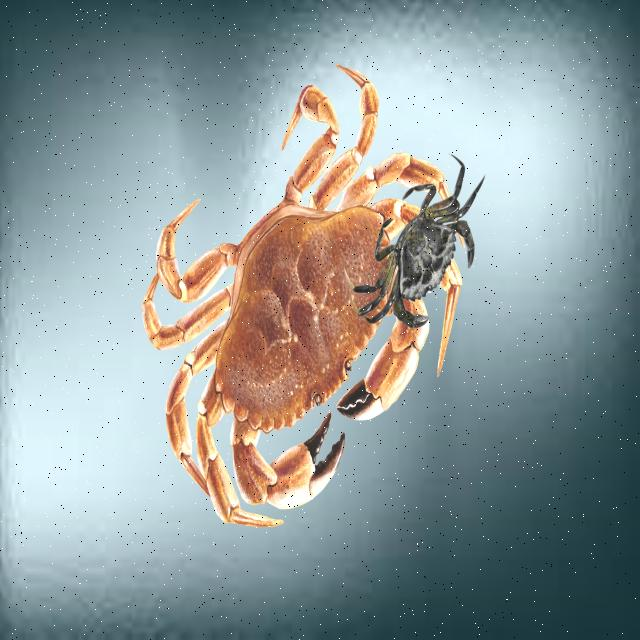European_Green_Crab: (338, 133, 506, 365)
